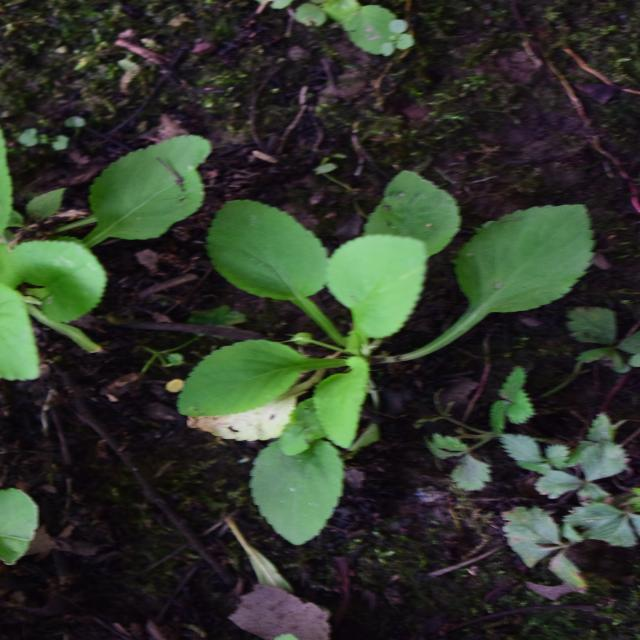Viola: (183, 182, 469, 544)
